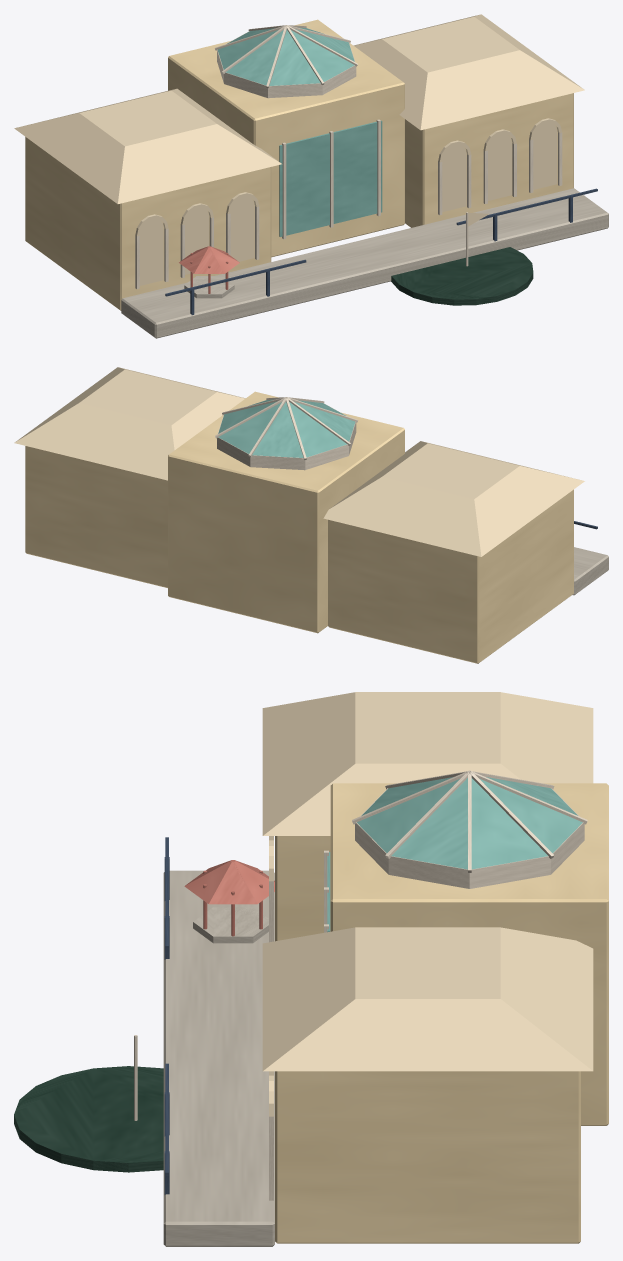
File: katameya-heights.glb
3 renders of one model, top to bottom at view 1: azimuth 30°, elevation 25°; view 2: azimuth 150°, elevation 25°; view 3: azimuth 270°, elevation 25°, orthographic. The views are drawn at different scales.
Parts seen in each view (by area): view 1: katameya-heights; view 2: katameya-heights; view 3: katameya-heights.
Boxes of the visible parts, bbox=[...] form: katameya-heights: bbox=[14, 14, 608, 338]; katameya-heights: bbox=[14, 367, 608, 663]; katameya-heights: bbox=[14, 692, 608, 1246].
Bounding box in the file's own units: 12.35 × 4.75 × 8.55.
1 material, 1 textured.
